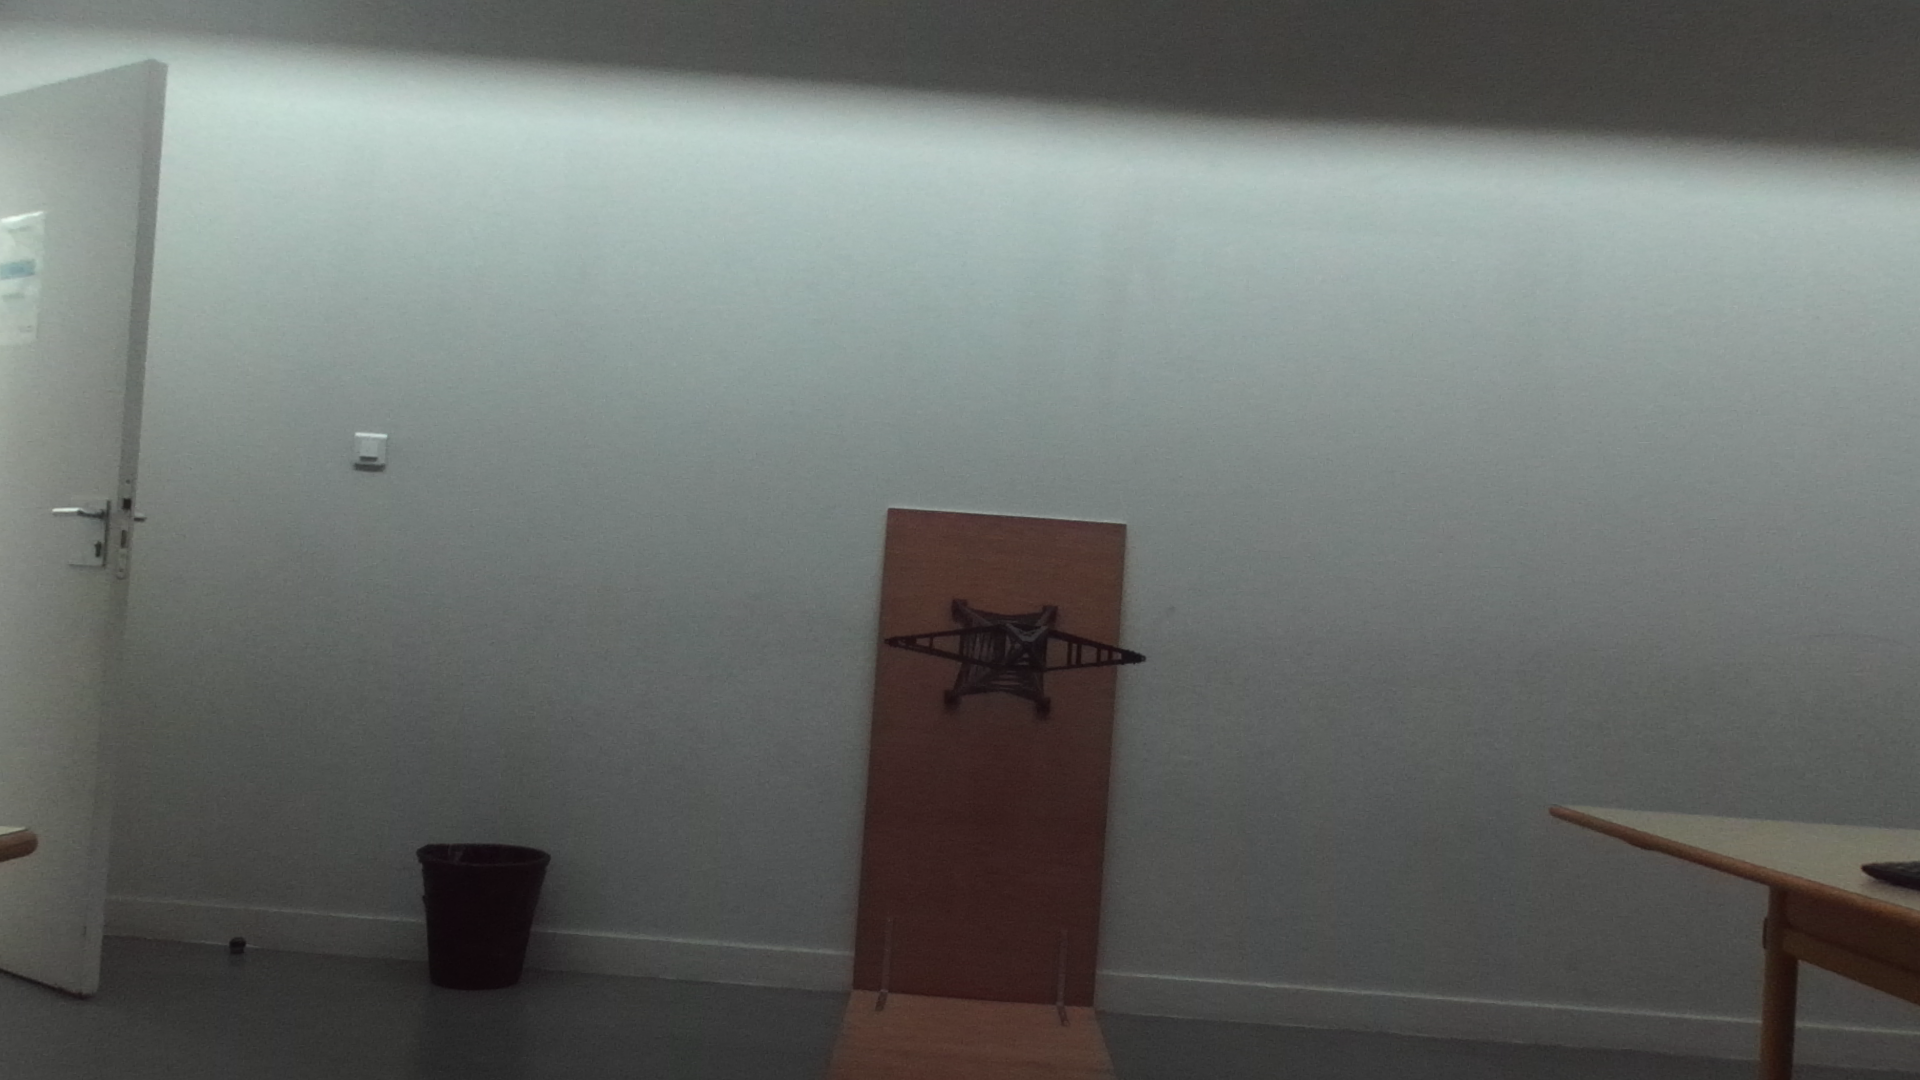pylon_phy: (890, 620, 1149, 675)
